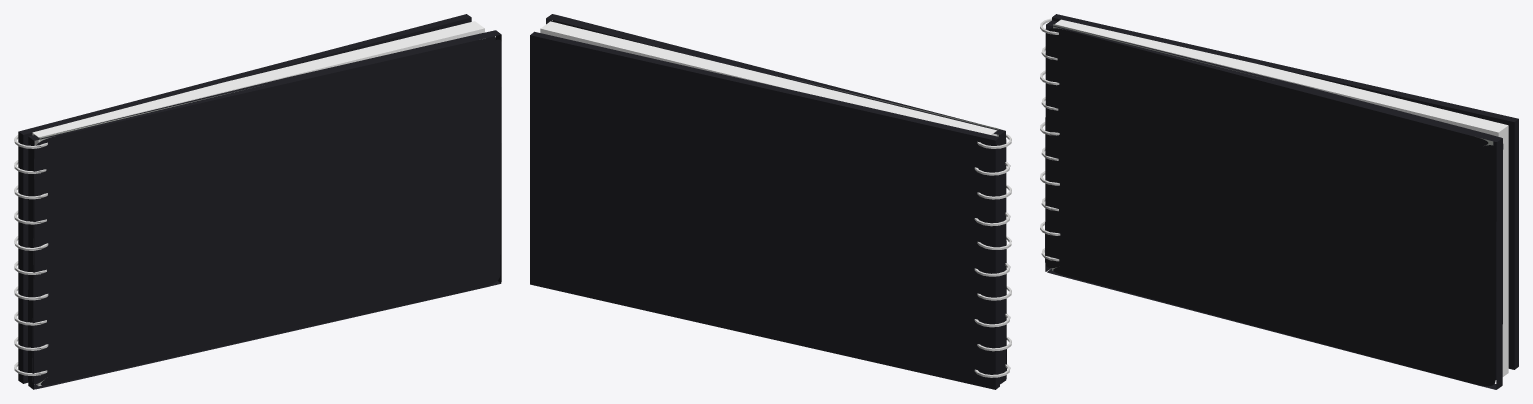
Rendered from finalmodel2.gltf.
3 views of the same model, side by side, from view 1: azimuth 30°, elevation 25°; view 2: azimuth 150°, elevation 25°; view 3: azimuth 330°, elevation 25° (orthographic).
Parts seen in each view (by area): view 1: cover_front, cover_back, paper, notebook; view 2: cover_back, paper, cover_front, notebook; view 3: cover_front, paper, cover_back, notebook.
Part boxes in pixels (box(x1,y1,x2,y2)): cover_front: box(28, 30, 501, 389); cover_back: box(18, 14, 471, 383); paper: box(32, 21, 484, 386); notebook: box(14, 137, 48, 375); cover_back: box(530, 31, 999, 389); paper: box(540, 21, 997, 136); cover_front: box(546, 14, 1006, 384); notebook: box(974, 135, 1011, 377); cover_front: box(1045, 20, 1503, 389); paper: box(1054, 19, 1508, 376); cover_back: box(1052, 14, 1518, 369); notebook: box(1040, 19, 1060, 261).
Size of the model in its own units: 2.83 by 1.44 by 0.3004.
Materials: 4 (1 with a texture image).
